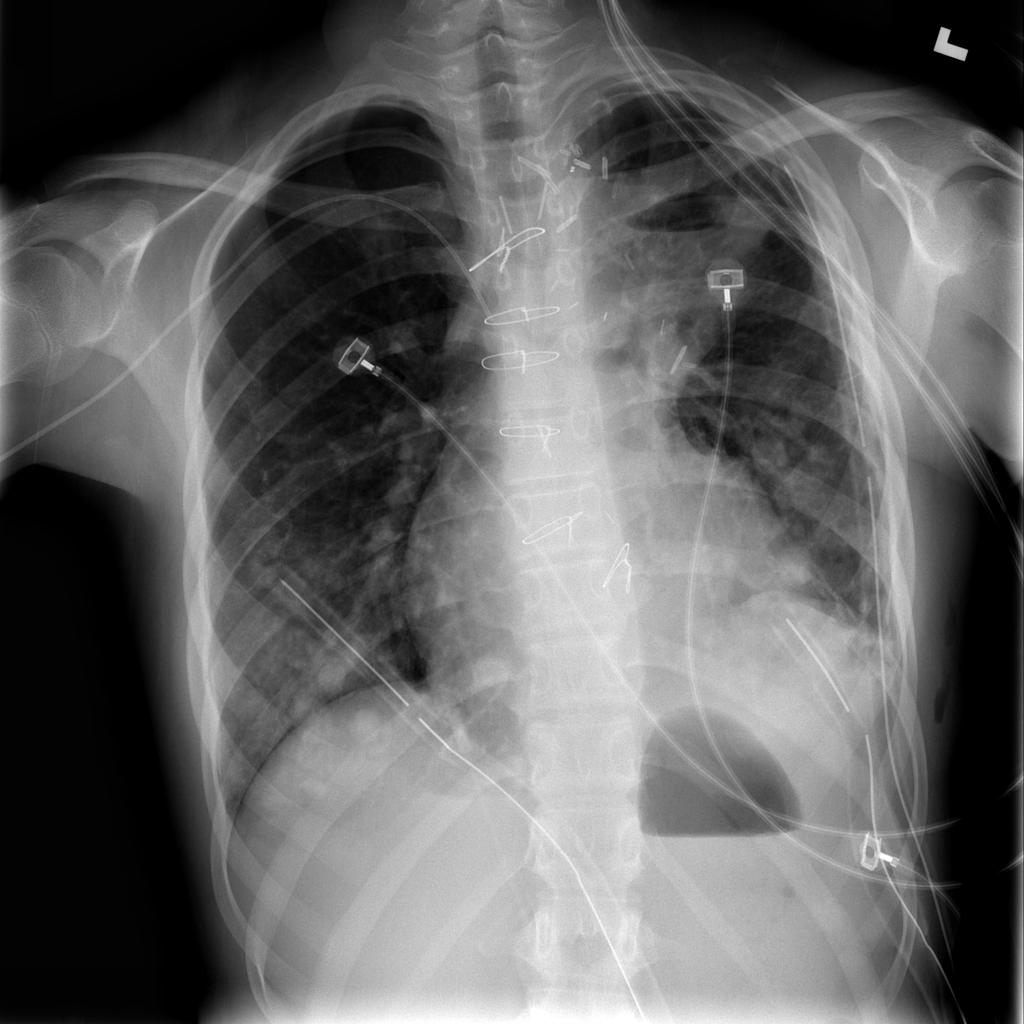nodule: (449, 633, 529, 705), (323, 690, 399, 756), (761, 527, 825, 600), (746, 426, 794, 483)
